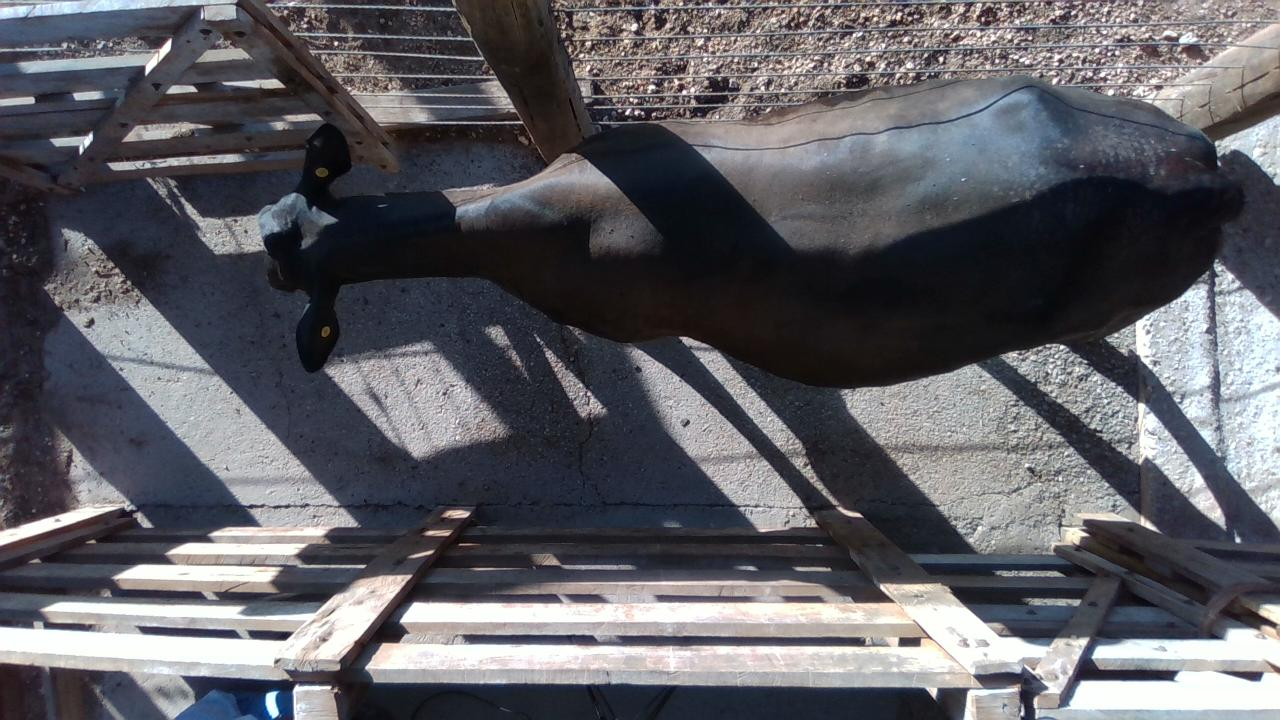cattle: (257, 73, 1245, 389)
